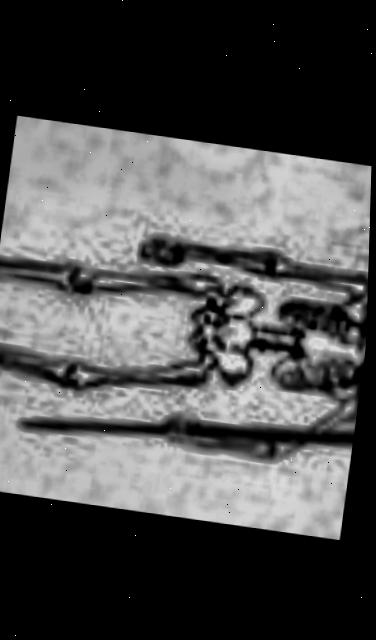La Muerte: (0, 113, 373, 537)
